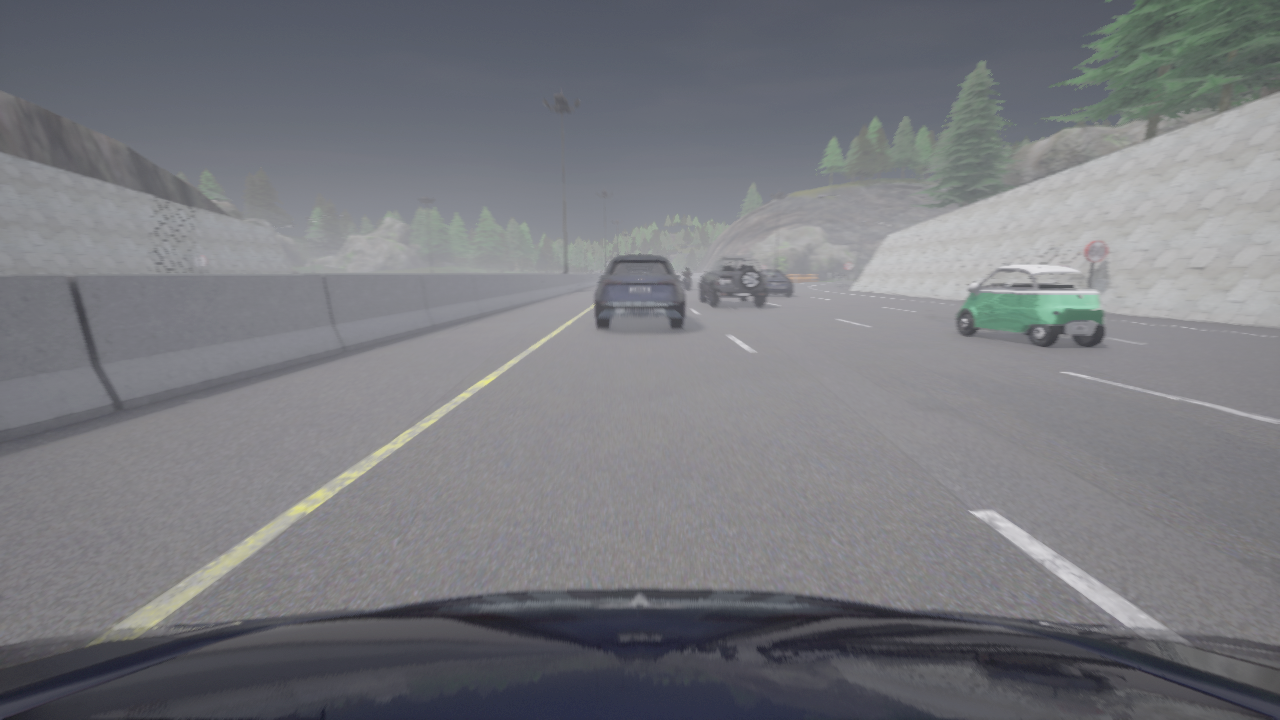cyclist: (0, 588, 1279, 719), (956, 264, 1105, 347), (595, 254, 684, 328), (699, 256, 768, 306), (762, 270, 792, 296), (683, 274, 690, 289)
